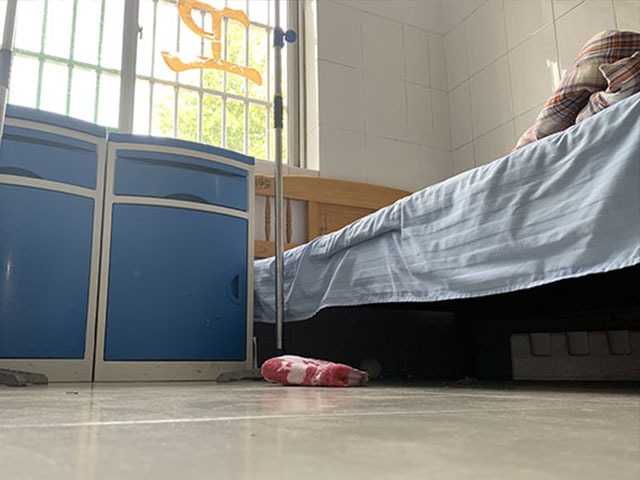bed: (252, 89, 640, 376)
cabinet: (1, 100, 255, 383)
